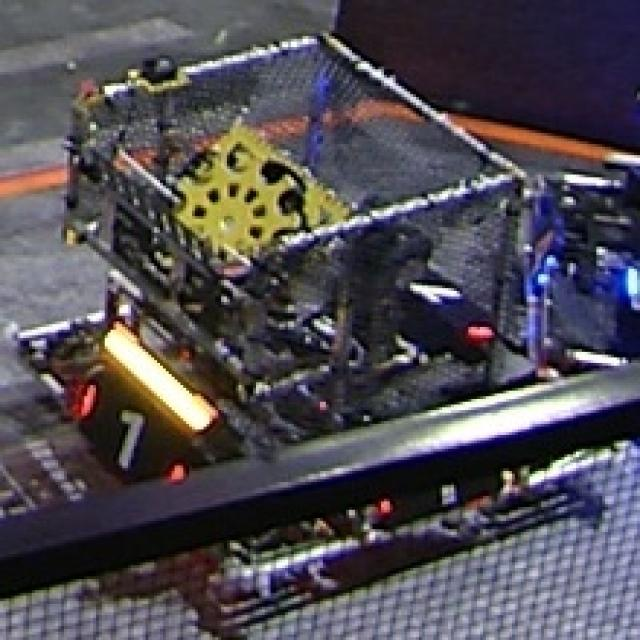R1: (58, 374, 186, 493), (384, 244, 503, 352)
